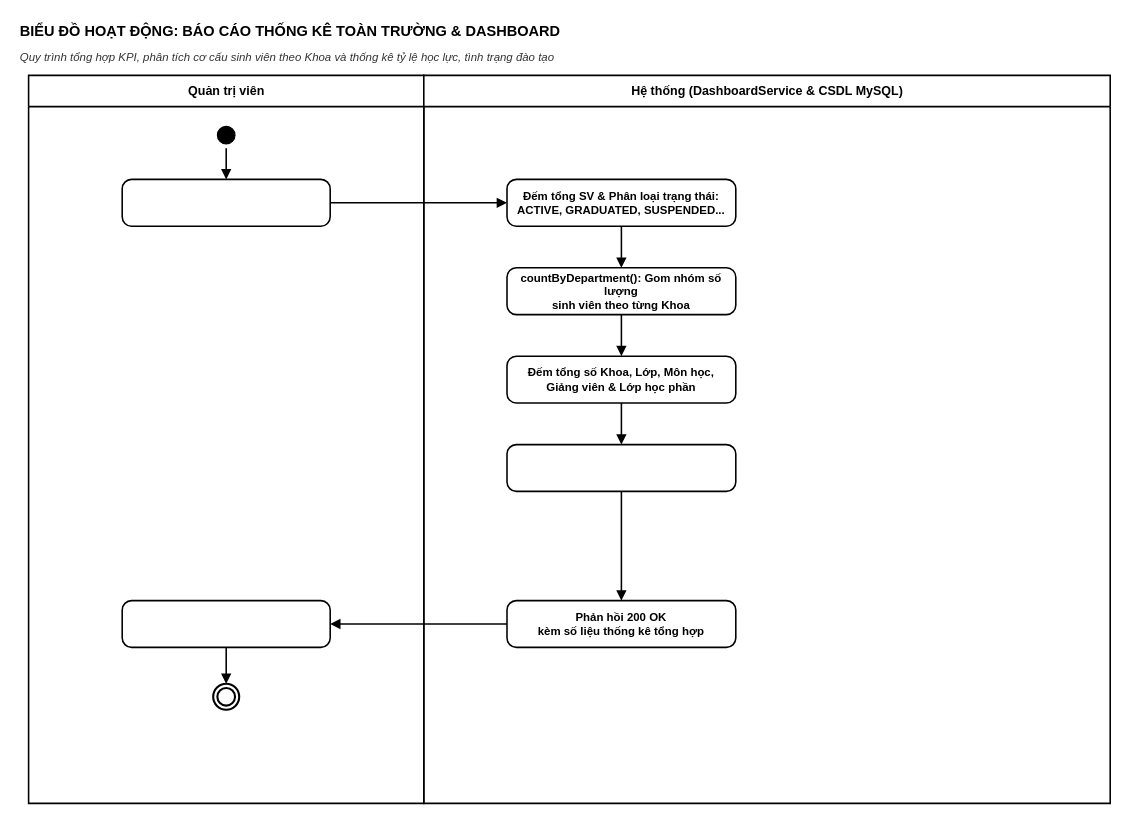
Image size: 1128x822. Some labels were removed from this diagram. The centre of each missing label's shape, as x and y in pixels:
Mở Bảng điều khiển Quản trị (/admin/dashboard) tổng quan: point 226,202
Xem Biểu đồ Cột (Khoa), Biểu đồ Tròn (Trạng thái) và Thẻ chỉ số KPI: point 226,623
Đóng gói DashboardResponse DTO chuẩn bị số liệu trực quan hóa: point 621,467
